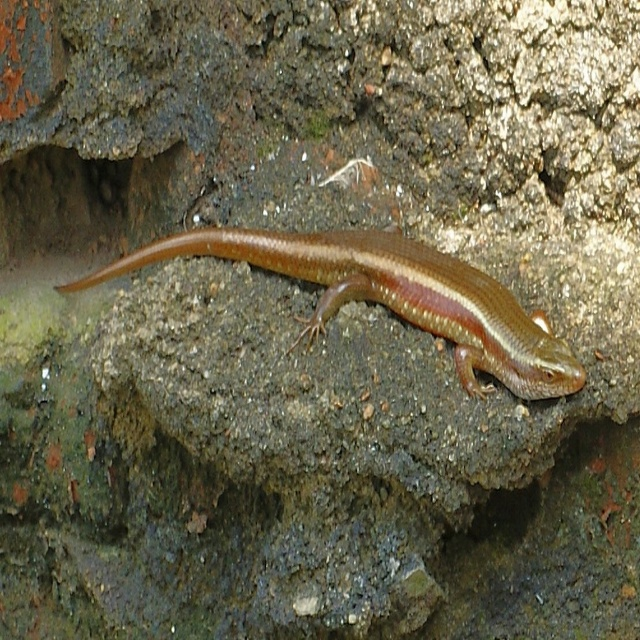Lizard: (53, 227, 587, 404)
